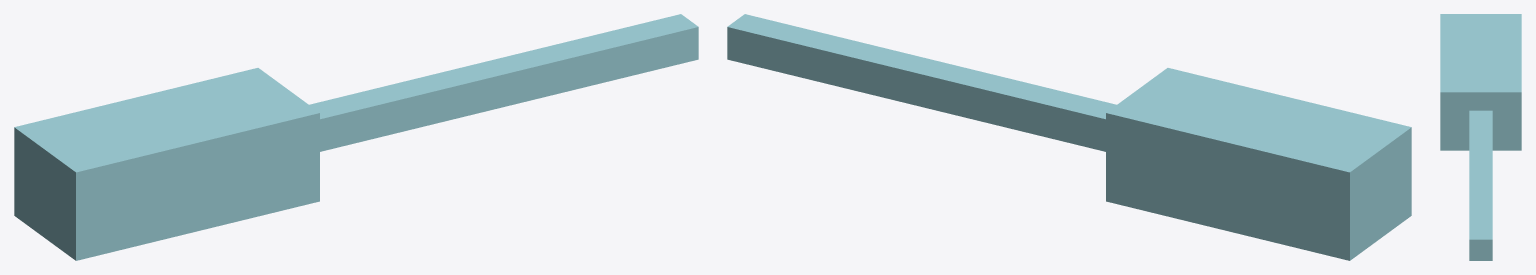
File: cuboid_screwdriver_v2011.obj
3 renders of one model, left to right at view 1: azimuth 30°, elevation 25°; view 2: azimuth 150°, elevation 25°; view 3: azimuth 270°, elevation 25°, orthographic. The views are drawn at different scales.
Size of the model in its own units: 0.2177 by 0.0285 by 0.0362.
Materials: 1 (1 with a texture image).
